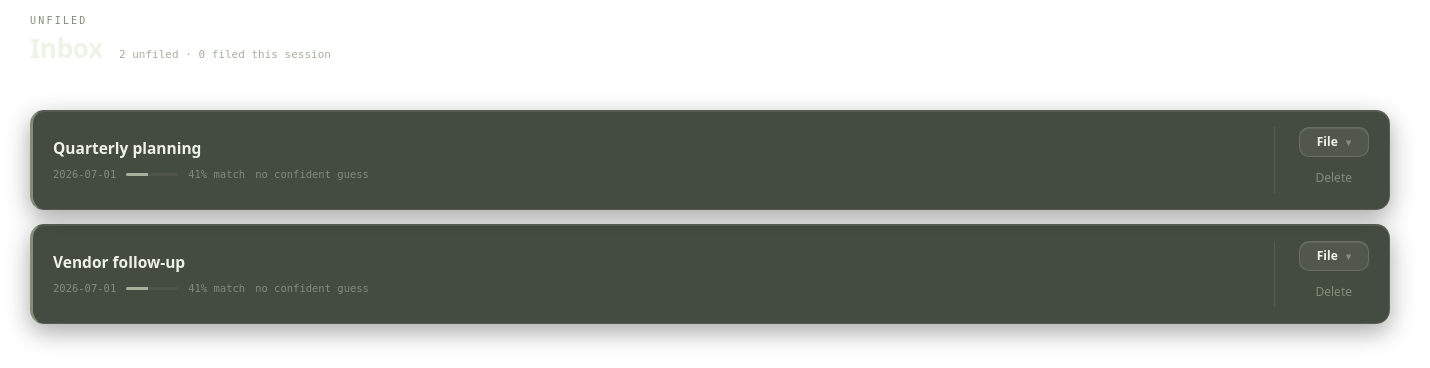
Test case: InboxView › re-routes a note to the chosen project and drops the row once the vault refetches
This screenshot has width=1430, height=368.
Expected: the text "Quarterly planning" is shown, [53,137,201,159]
Click the 1st button "File ▾" at (1334, 142), box [1298,127,1369,157]
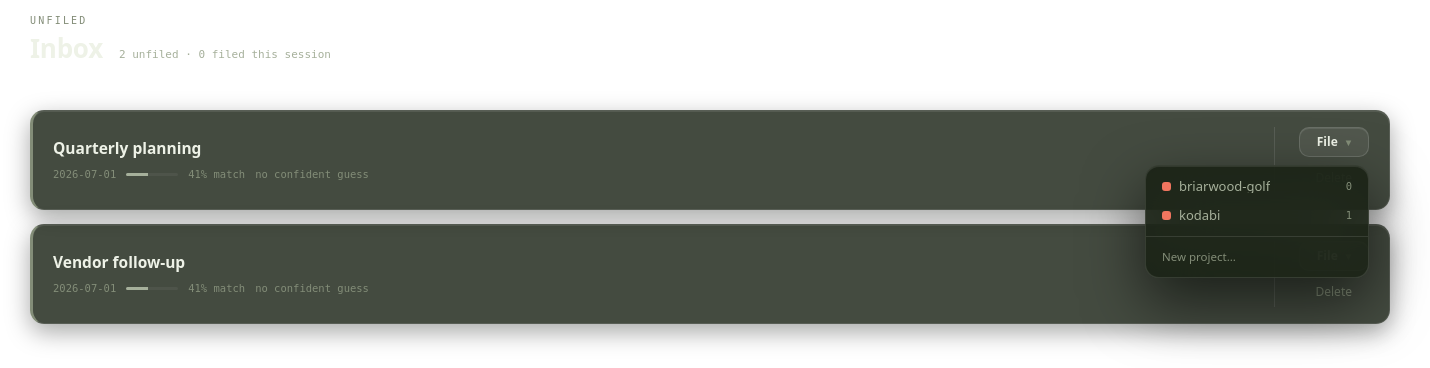
Click the menu item "briarwood-golf 0" at (1257, 186), box [1152,172,1362,201]
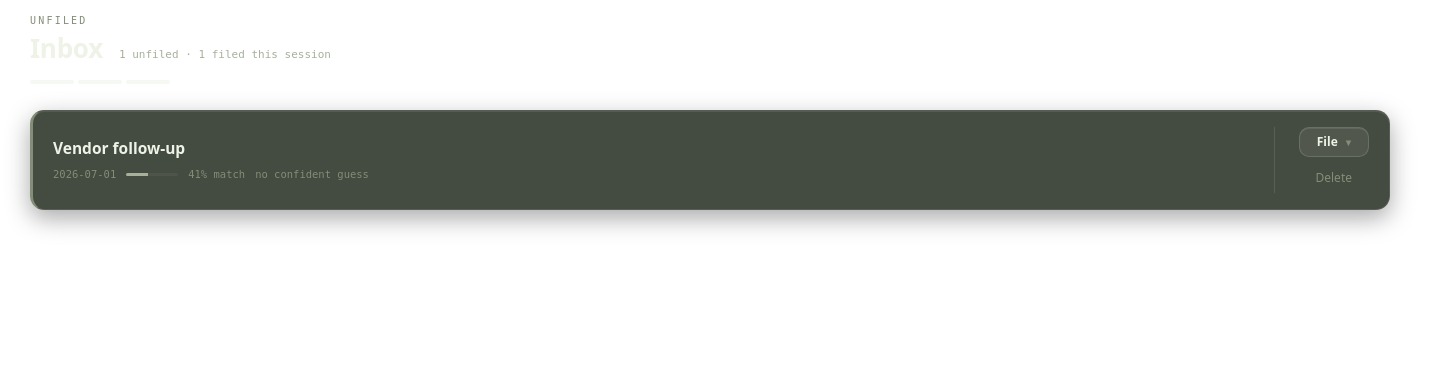
Expected: the text "Vendor follow-up" is shown, [53,137,185,159]
Now the button "Quarterly planning" is gone
